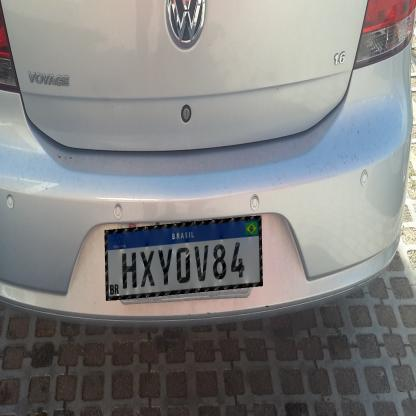PlacaM: (104, 216, 263, 300)
